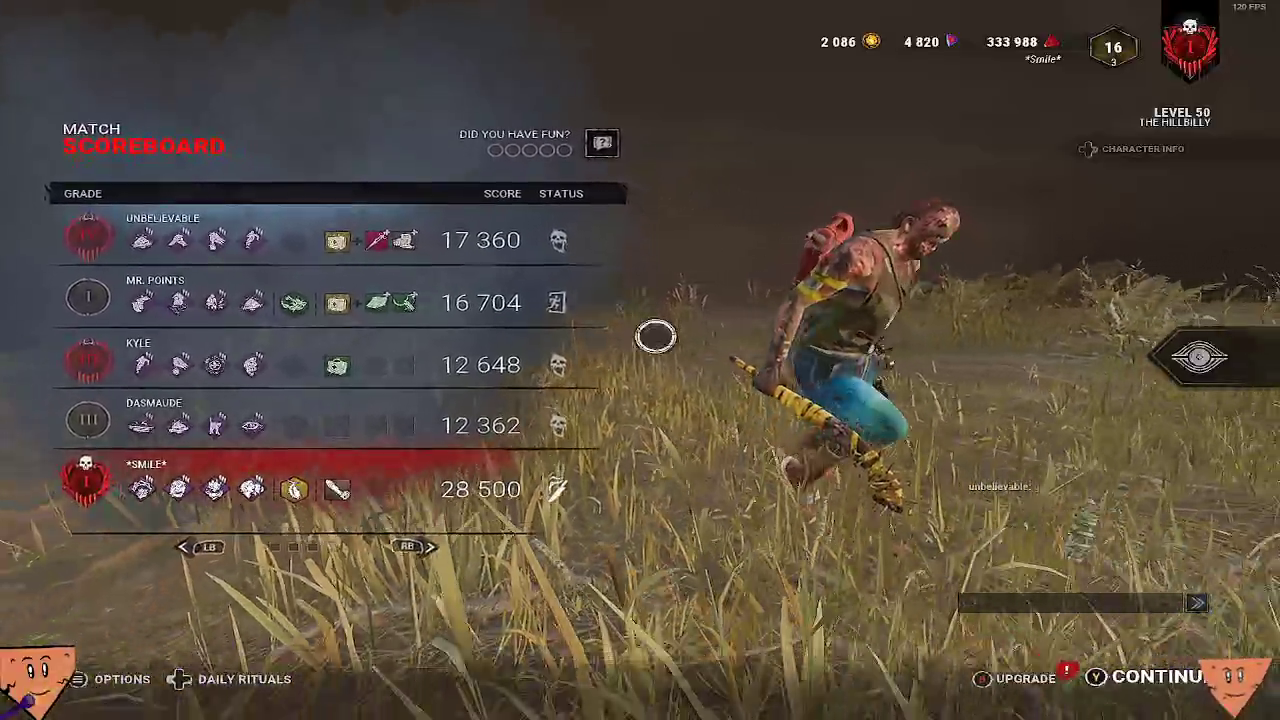bbq_and_chilli: (199, 476, 230, 501)
borrowed_time: (201, 229, 232, 254), (165, 352, 196, 377)
circle_of_healing: (201, 353, 232, 378)
corrupt_intervention: (126, 476, 157, 501)
dead_hard: (237, 228, 268, 253), (127, 353, 158, 378)
decisive_strike: (165, 229, 196, 254)
enduring: (163, 478, 194, 503)
infectious_fright: (236, 476, 267, 501)
iron_will: (127, 229, 158, 254), (238, 290, 269, 315), (163, 414, 194, 439)
self_aware: (165, 290, 196, 315)
spine_chill: (200, 414, 231, 439)
sprint_burst: (126, 291, 157, 316)
unbreakable: (236, 353, 267, 378)
vigil: (202, 290, 233, 315)
windows_of_opportunity: (126, 415, 157, 440)
